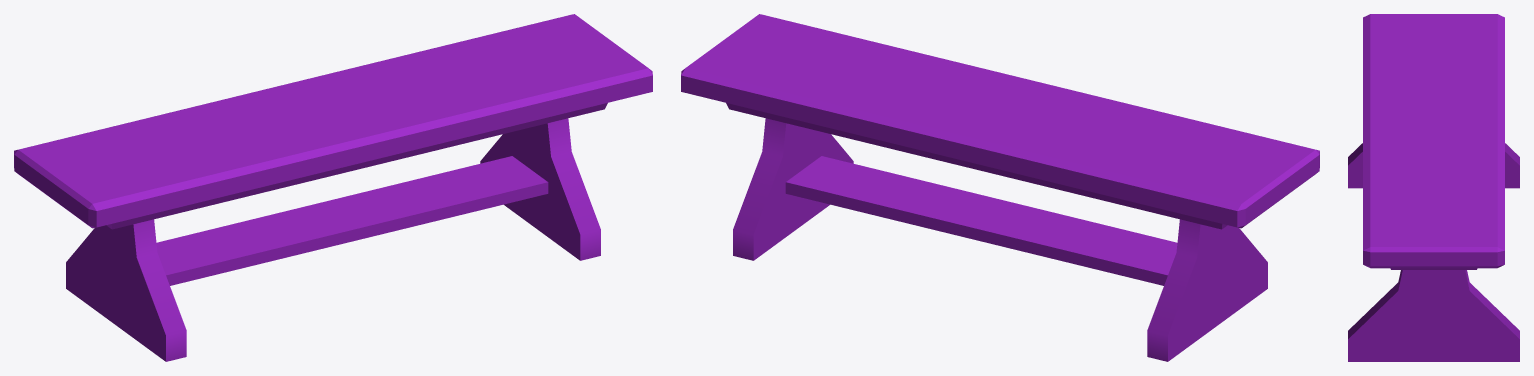
The model's file is Bench.fbx.
3 renders of one model, left to right at view 1: azimuth 30°, elevation 25°; view 2: azimuth 150°, elevation 25°; view 3: azimuth 270°, elevation 25°, orthographic. The views are drawn at different scales.
Parts seen in each view (by area): view 1: Bench; view 2: Bench; view 3: Bench.
Part boxes in pixels (x1,y1,x2,y2): Bench: [14, 14, 652, 361]; Bench: [681, 14, 1319, 361]; Bench: [1348, 14, 1519, 361].
Bounding box in the file's own units: 173 × 47.78 × 53.07.
